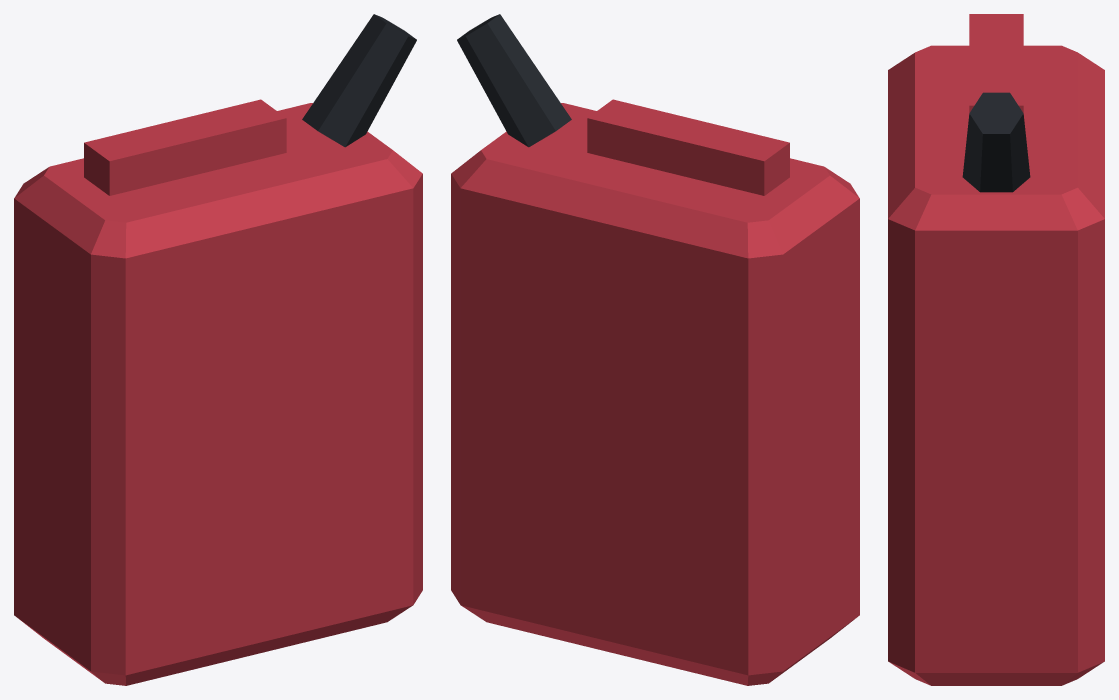
The model's file is fuel_can.glb.
The picture shows the model from 3 angles, left to right: view 1: azimuth 30°, elevation 25°; view 2: azimuth 150°, elevation 25°; view 3: azimuth 270°, elevation 25°; orthographic projection. The views are drawn at different scales.
Visible parts, largest first — view 1: fuel_can; view 2: fuel_can; view 3: fuel_can.
Part boxes in pixels (x1,y1,x2,y2): fuel_can: [14, 14, 422, 685]; fuel_can: [451, 14, 859, 685]; fuel_can: [888, 14, 1104, 685].
Bounding box in the file's own units: 0.3239 × 0.4904 × 0.16.
